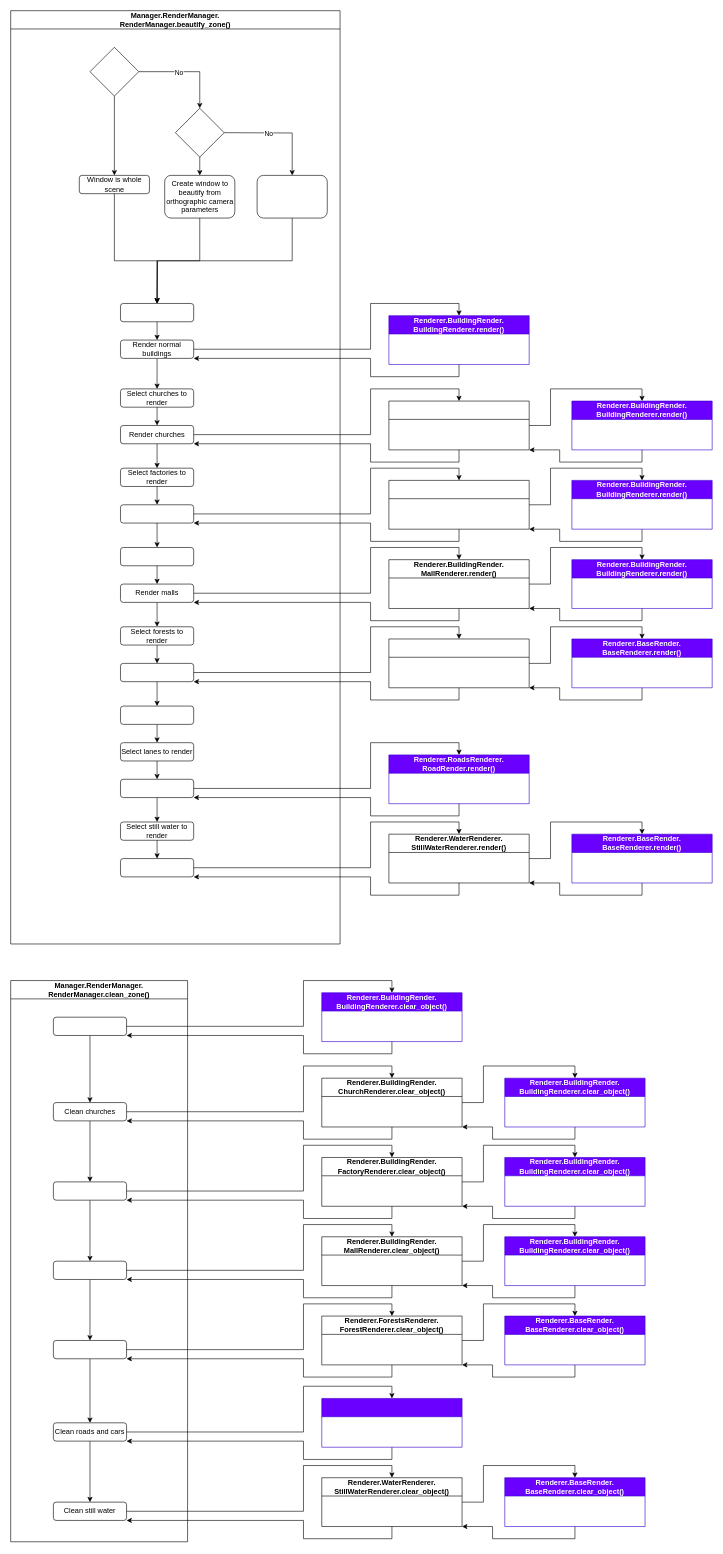
This 723x1554 diagram has some shape labels left out. Each missing label, with the centre of its shape:
"camera is ortho" belongs at (x=199, y=132).
"Clean factories" belongs at (x=90, y=1190).
"Clean forests" belongs at (x=90, y=1349).
"Clean malls" belongs at (x=90, y=1270).
"Clean normal buildings" belongs at (x=90, y=1026).
"Create window to beautify from perspective camera parameters" belongs at (x=292, y=196).
"Render factories" belongs at (x=157, y=513).
"Render forests" belongs at (x=157, y=672).
"Render roads and cars" belongs at (x=157, y=788).
"Render still water" belongs at (x=157, y=867).
"Renderer.BuildingRender. ChurchRenderer.render()" belongs at (x=458, y=425).
"Renderer.BuildingRender. FactoryRenderer.render()" belongs at (x=458, y=504).
"Renderer.ForestsRenderer. ForestRenderer.render()" belongs at (x=458, y=663).
"Renderer.RoadsRenderer. RoadRender.clear_object()" belongs at (x=391, y=1422).
"Select malls to render" belongs at (x=157, y=556).
"Select normal buildings to render" belongs at (x=157, y=312).
"Select roads to render" belongs at (x=157, y=714).
"whole scene ?" belongs at (x=114, y=71).
